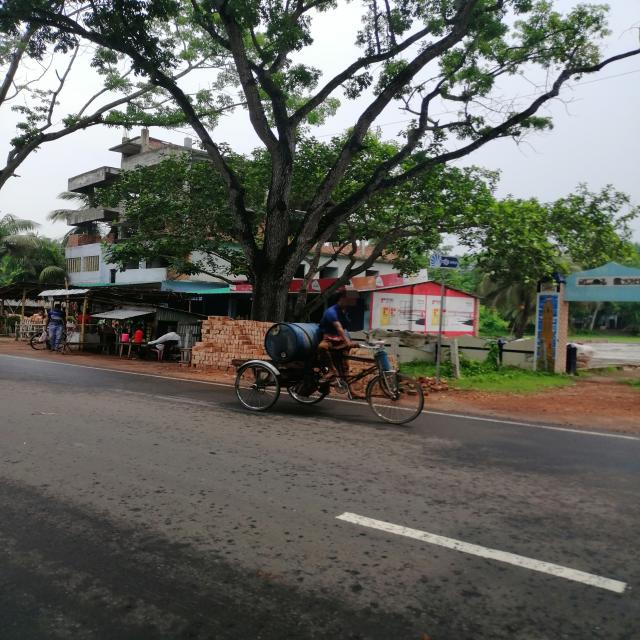Van: (223, 334, 435, 430)
